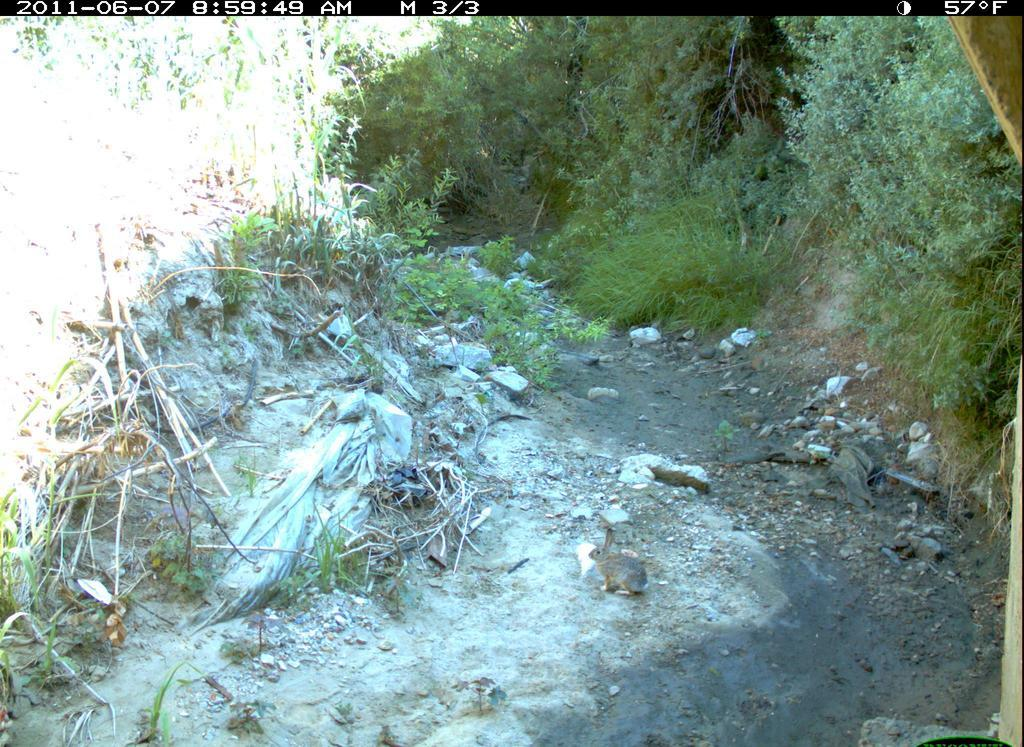rabbit: (579, 524, 665, 610)
